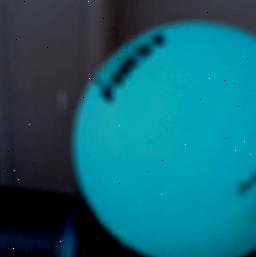algae: (67, 13, 256, 257)
